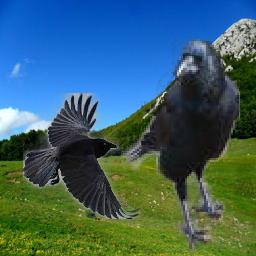Crow: (116, 30, 241, 253), (23, 93, 141, 219)
